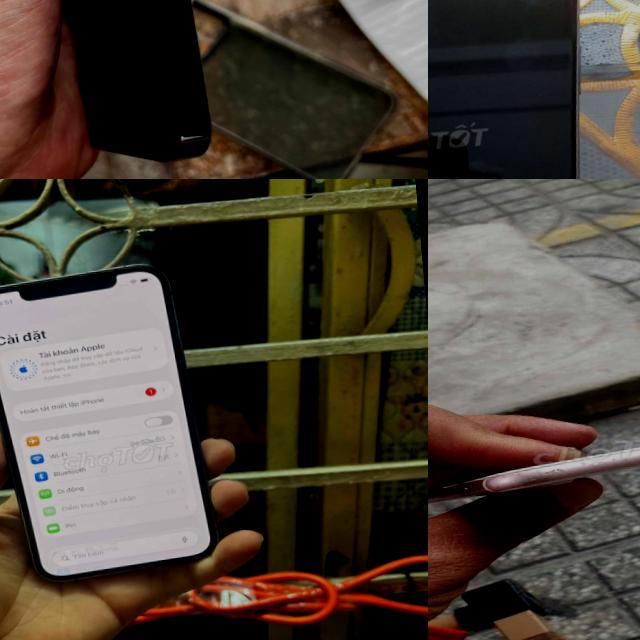scratch: (504, 462, 573, 480), (575, 453, 640, 467)
